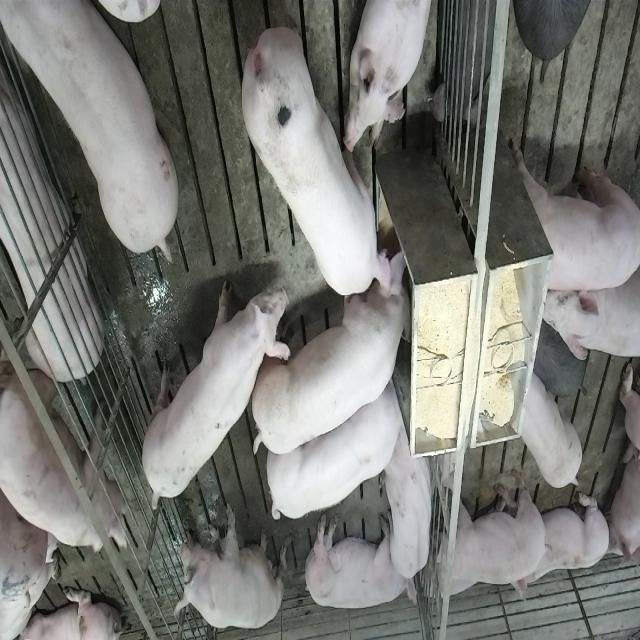Feeding: (238, 21, 394, 302), (254, 252, 420, 461)
Lateral_lying: (0, 42, 101, 382), (302, 512, 418, 612)
Sitting: (175, 503, 285, 632)
Standing: (0, 0, 175, 259), (137, 258, 285, 510), (0, 349, 125, 558), (266, 375, 406, 528), (514, 138, 640, 292), (424, 464, 550, 592), (538, 240, 640, 364), (515, 372, 585, 491), (532, 317, 590, 399)
Sternal_lying: (345, 0, 433, 152), (516, 485, 612, 605), (381, 429, 436, 589)
